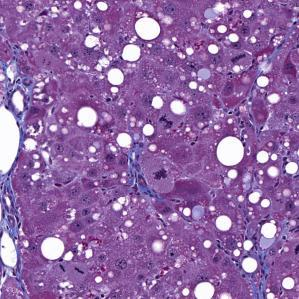fibrosis: (5, 60, 40, 122), (241, 251, 275, 293), (123, 148, 152, 195)
